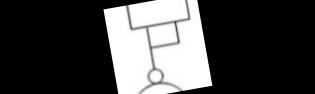nand: (119, 56, 195, 94), (120, 0, 196, 35)
